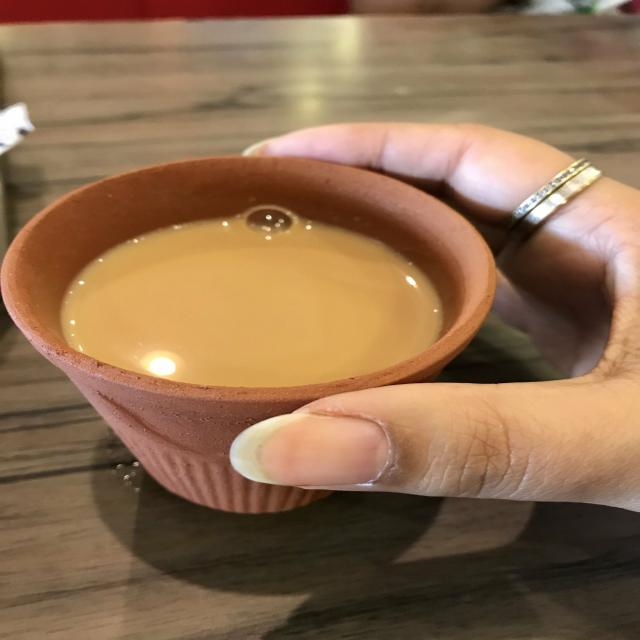Chai: (63, 202, 441, 387)
